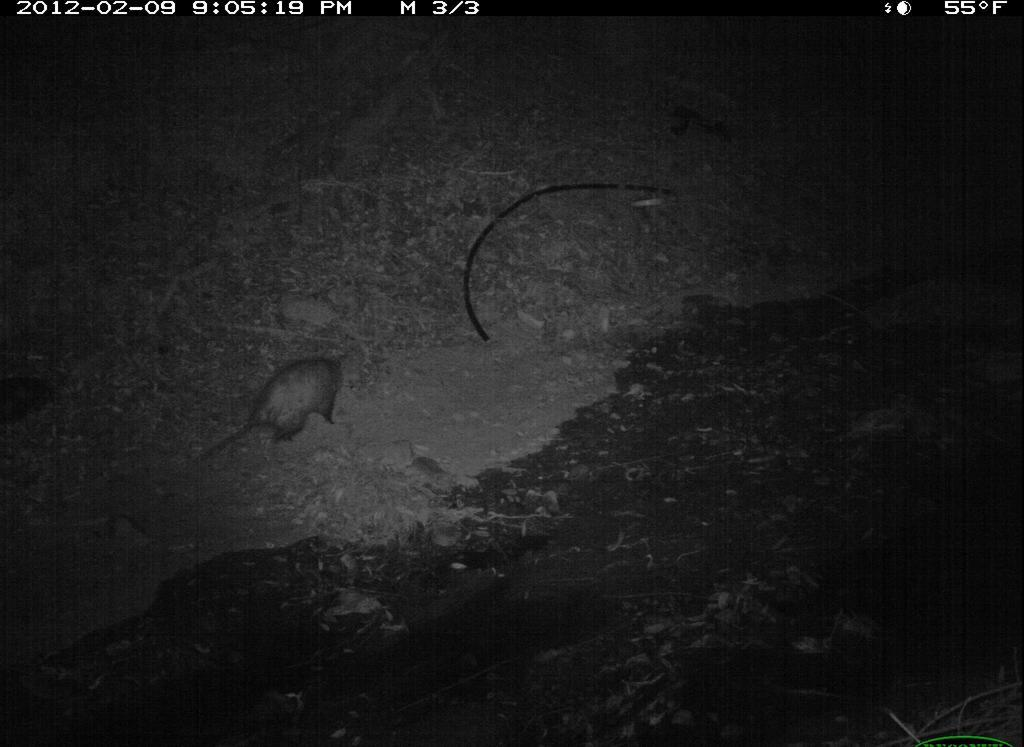opossum: (195, 350, 361, 465)
